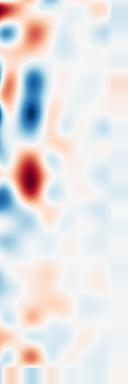filament: (8, 140, 52, 211)
